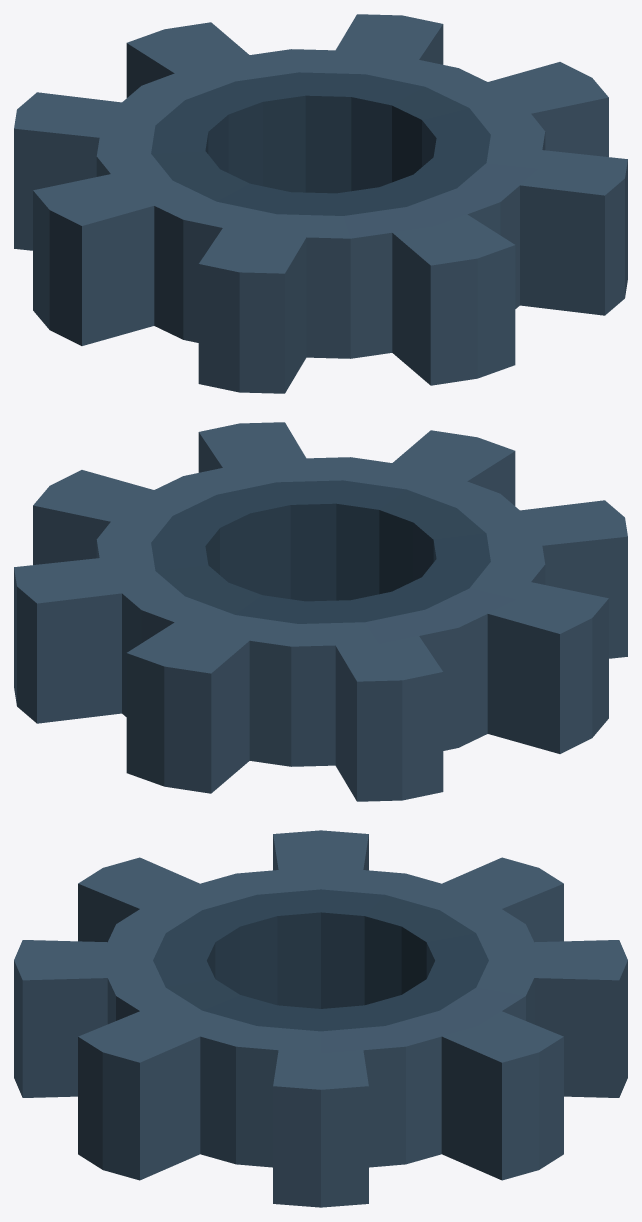
File: Gear.fbx
The picture shows the model from 3 angles, top to bottom: view 1: azimuth 30°, elevation 25°; view 2: azimuth 150°, elevation 25°; view 3: azimuth 270°, elevation 25°; orthographic projection. The views are drawn at different scales.
Visible parts, largest first — view 1: Cube; view 2: Cube; view 3: Cube.
Part boxes in pixels (x1,y1,x2,y2): Cube: [14, 14, 627, 393]; Cube: [14, 422, 627, 801]; Cube: [14, 830, 627, 1207].
Bounding box in the file's own units: 269 × 56.85 × 269.
